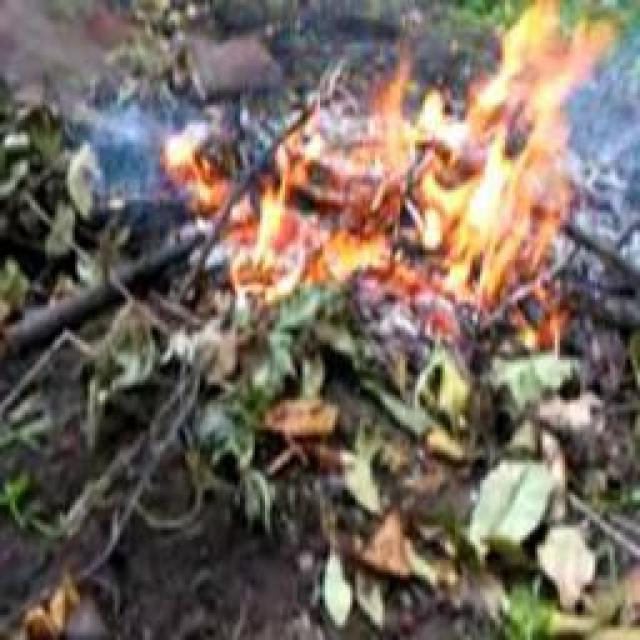Fire: (174, 2, 616, 302)
